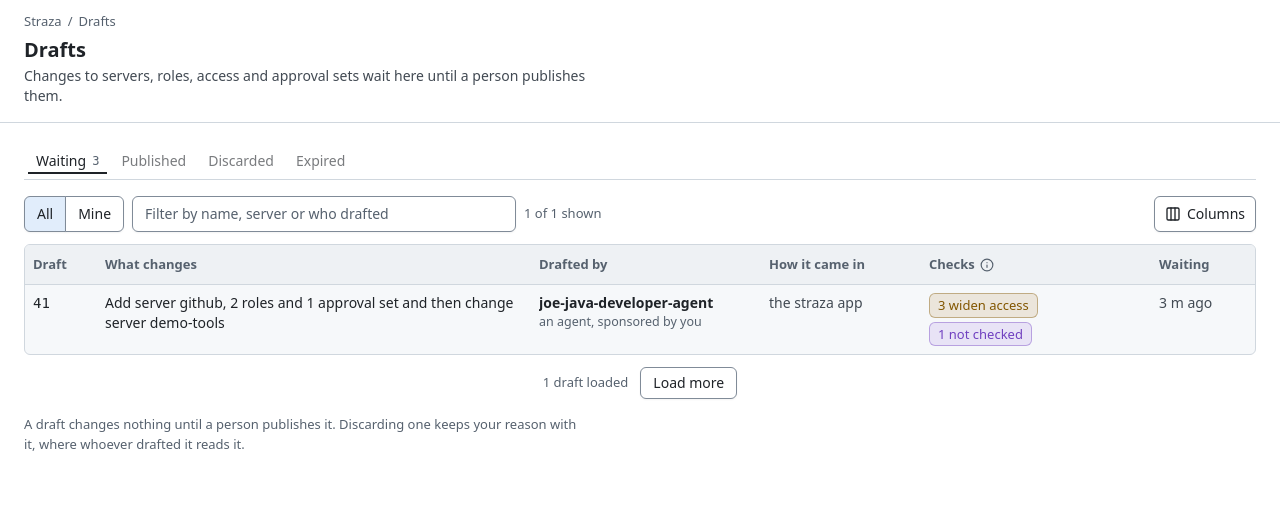
the Drafts queue › walks on to the next page through the cursor
The width and height of the screenshot is (1280, 525).
Click the button "Load more" at (689, 383), box [640, 367, 737, 399]
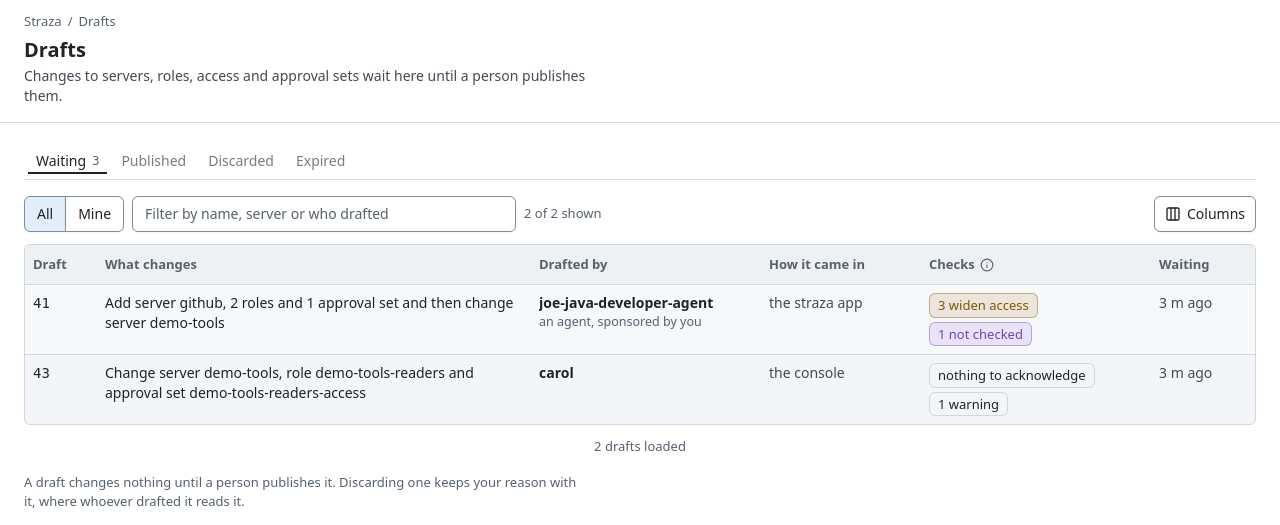
Now the button with aria-label "Open draft 43" is shown, box [25, 355, 1255, 424]
